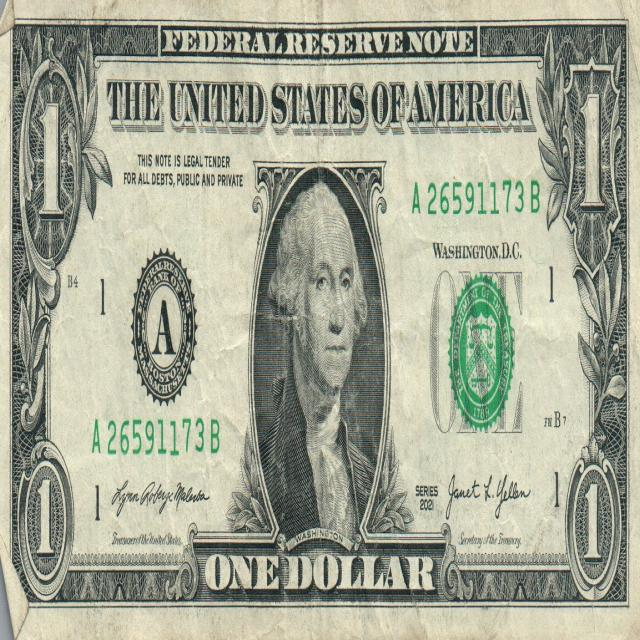SerialNumber: (92, 418, 219, 455), (412, 180, 540, 215)
